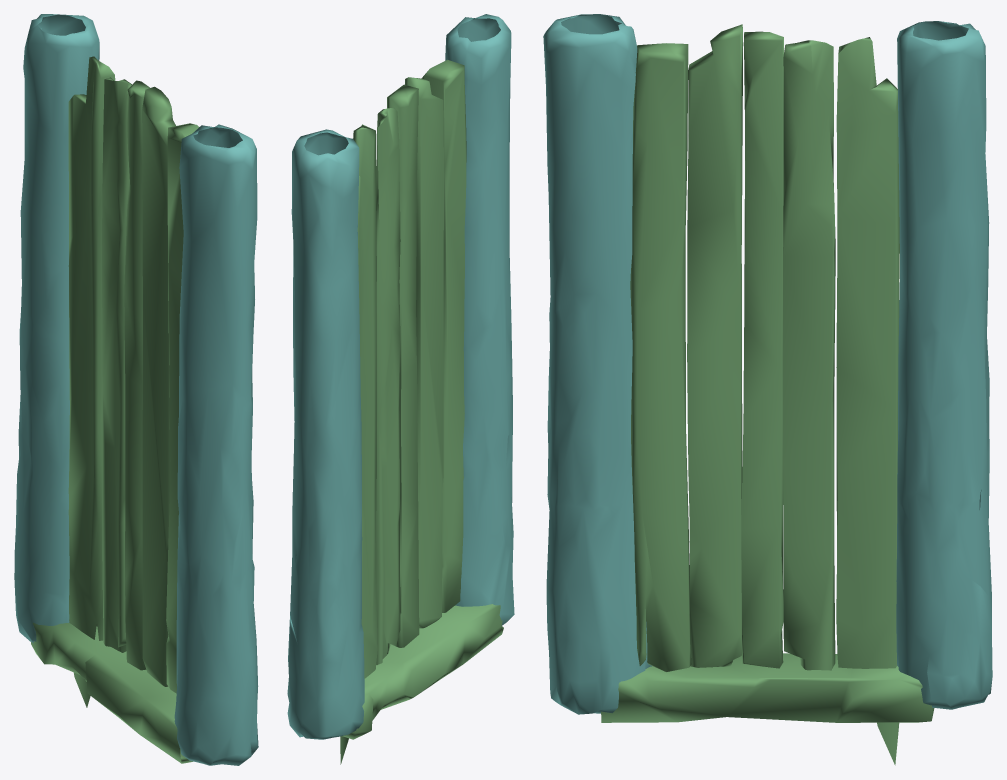
The model's file is SM_Kapi.fbx.
3 views of the same model, side by side, from view 1: azimuth 30°, elevation 25°; view 2: azimuth 150°, elevation 25°; view 3: azimuth 270°, elevation 25° (orthographic). The views are drawn at different scales.
Parts seen in each view (by area): view 1: OBJ_Kapi; view 2: OBJ_Kapi; view 3: OBJ_Kapi.
Part boxes in pixels (box(x1,y1,x2,y2)): OBJ_Kapi: box(14, 14, 258, 765); OBJ_Kapi: box(287, 14, 514, 764); OBJ_Kapi: box(543, 14, 992, 765).
Bounding box in the file's own units: 27.19 × 262 × 144.
